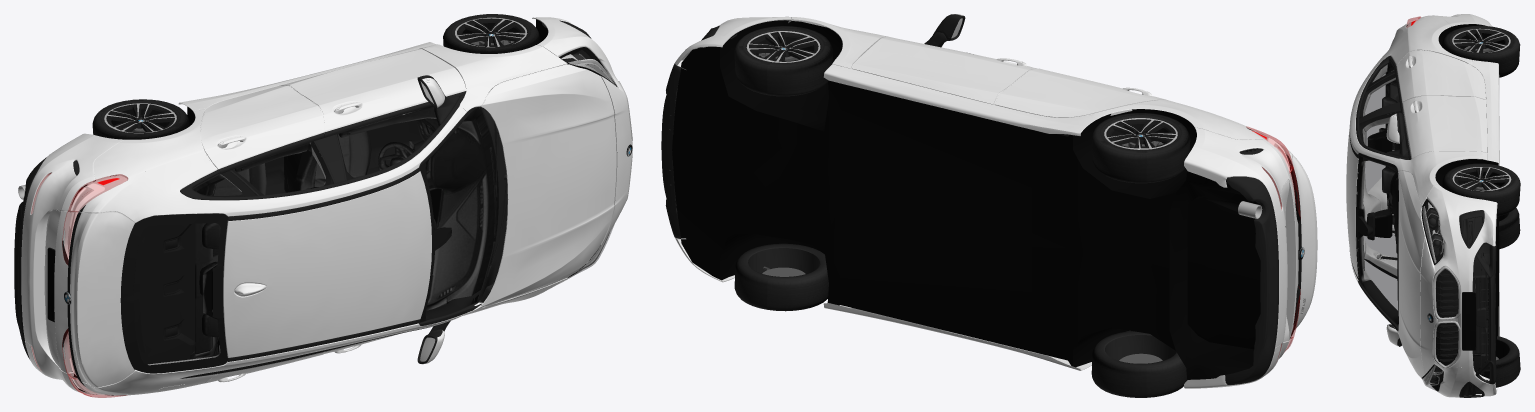
3 renders of one model, left to right at view 1: azimuth 30°, elevation 25°; view 2: azimuth 150°, elevation 25°; view 3: azimuth 270°, elevation 25°, orthographic. The views are drawn at different scales.
Parts seen in each view (by area): view 1: body_mesh, wheel_RL_mesh, wheel_FL_mesh; view 2: body_mesh, wheel_RL_mesh, wheel_FL_mesh, wheel_FR_mesh, wheel_RR_mesh; view 3: body_mesh, wheel_FL_mesh, wheel_RL_mesh, wheel_FR_mesh, wheel_RR_mesh.
Boxes of the visible parts, bbox=[...] form: body_mesh: bbox=[14, 17, 632, 397]; wheel_RL_mesh: bbox=[92, 99, 189, 139]; wheel_FL_mesh: bbox=[443, 14, 539, 53]; body_mesh: bbox=[661, 14, 1317, 388]; wheel_RL_mesh: bbox=[1091, 113, 1190, 183]; wheel_FL_mesh: bbox=[734, 26, 833, 96]; wheel_FR_mesh: bbox=[734, 243, 828, 311]; wheel_RR_mesh: bbox=[1091, 331, 1187, 397]; body_mesh: bbox=[1346, 14, 1499, 397]; wheel_FL_mesh: bbox=[1442, 163, 1520, 216]; wheel_RL_mesh: bbox=[1442, 25, 1520, 77]; wheel_FR_mesh: bbox=[1496, 336, 1520, 387]; wheel_RR_mesh: bbox=[1499, 208, 1520, 249].
Bounding box in the file's own units: 4.53 × 2.09 × 1.42.
24 materials, 8 textured.
